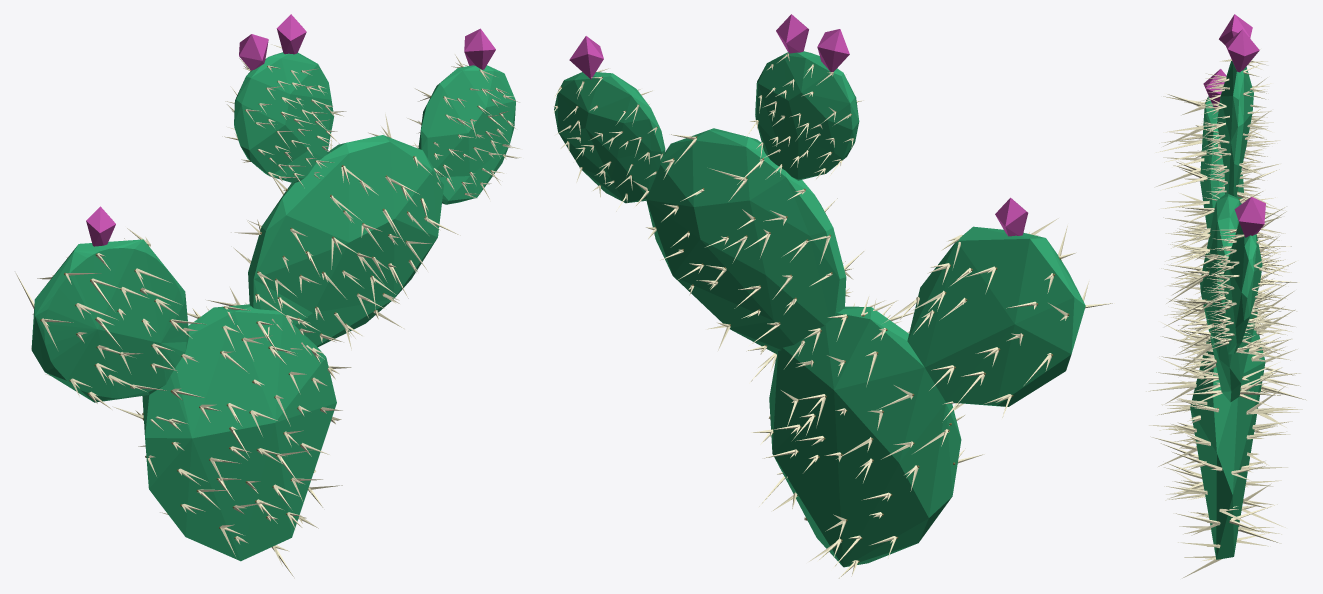
Rendered from Cactus_Large.fbx.
The picture shows the model from 3 angles, left to right: view 1: azimuth 30°, elevation 25°; view 2: azimuth 150°, elevation 25°; view 3: azimuth 270°, elevation 25°; orthographic projection. The views are drawn at different scales.
Parts seen in each view (by area): view 1: Cactus_Large; view 2: Cactus_Large; view 3: Cactus_Large.
Boxes of the visible parts, bbox=[...] form: Cactus_Large: bbox=[15, 14, 521, 578]; Cactus_Large: bbox=[553, 14, 1114, 578]; Cactus_Large: bbox=[1146, 14, 1306, 578].
Bounding box in the file's own units: 125 × 129 × 34.05.
